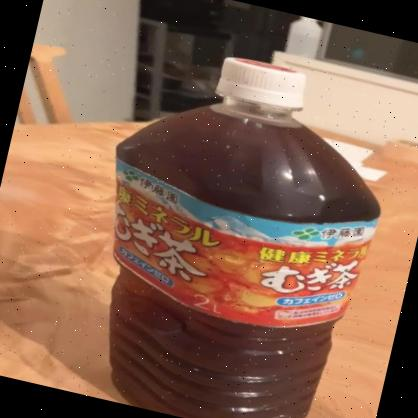bottle: (57, 30, 409, 418)
cap: (208, 36, 317, 117)
label: (86, 159, 376, 341)
